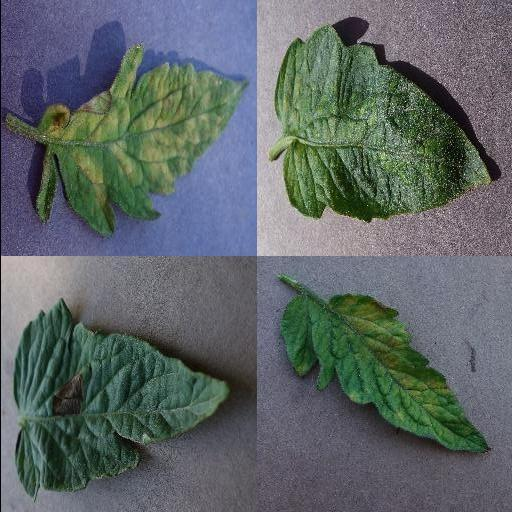Early Blight: (13, 298, 229, 504)
Leaf Mold: (33, 45, 249, 240), (280, 295, 490, 452)
Spider Mites: (274, 25, 494, 218)
